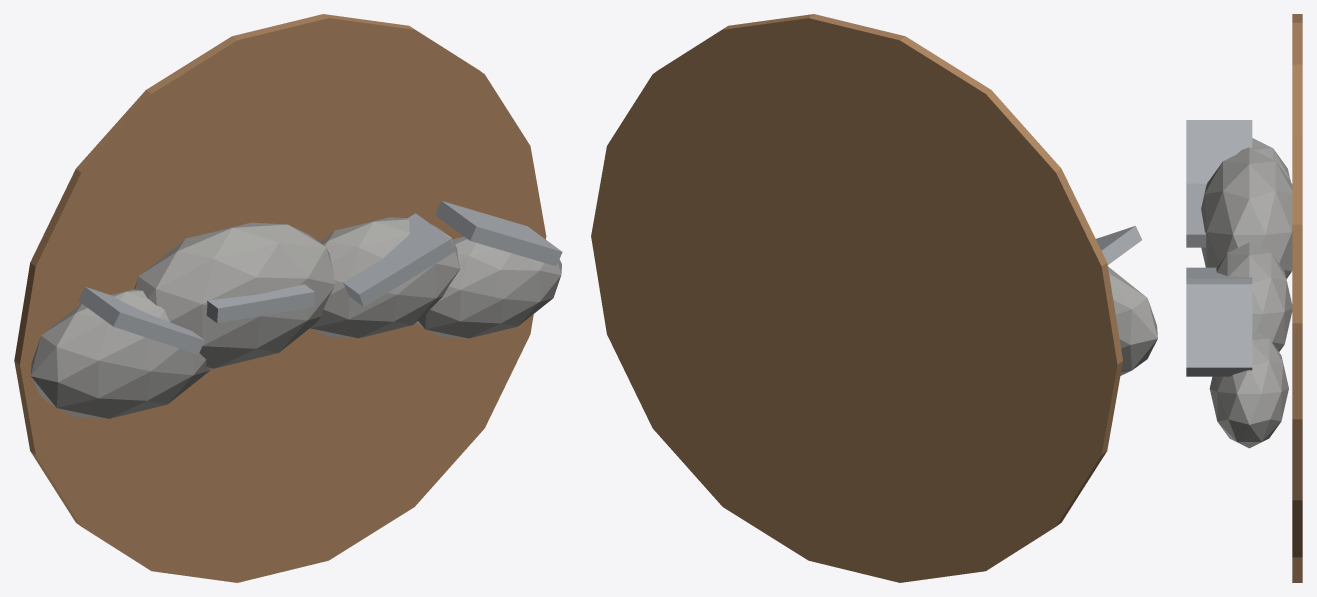
File: 02_display_prop_cluster.glb
The picture shows the model from 3 angles, left to right: view 1: azimuth 30°, elevation 25°; view 2: azimuth 150°, elevation 25°; view 3: azimuth 270°, elevation 25°; orthographic projection. The views are drawn at different scales.
Parts seen in each view (by area): view 1: scatter_base, scrap_rock_1, scrap_rock_0, scrap_rock_2, scrap_rock_3, scrap_plate_2, scrap_plate_3, scrap_plate_0, scrap_plate_1; view 2: scatter_base, scrap_rock_0, scrap_plate_0; view 3: scrap_rock_1, scatter_base, scrap_plate_3, scrap_rock_3, scrap_rock_2, scrap_plate_0, scrap_plate_1, scrap_plate_2, scrap_rock_0.
Boxes of the visible parts, bbox=[...] form: scatter_base: bbox=[14, 14, 546, 582]; scrap_rock_1: bbox=[134, 222, 334, 368]; scrap_rock_0: bbox=[30, 289, 210, 418]; scrap_rock_2: bbox=[310, 217, 460, 338]; scrap_rock_3: bbox=[416, 236, 561, 338]; scrap_plate_2: bbox=[342, 213, 455, 306]; scrap_plate_3: bbox=[435, 201, 562, 266]; scrap_plate_0: bbox=[78, 286, 204, 354]; scrap_plate_1: bbox=[206, 284, 314, 323]; scatter_base: bbox=[591, 14, 1122, 582]; scrap_rock_0: bbox=[1108, 266, 1157, 375]; scrap_plate_0: bbox=[1096, 226, 1141, 264]; scrap_rock_1: bbox=[1201, 148, 1292, 278]; scatter_base: bbox=[1292, 14, 1302, 582]; scrap_plate_3: bbox=[1186, 284, 1252, 376]; scrap_rock_3: bbox=[1209, 333, 1288, 448]; scrap_rock_2: bbox=[1216, 242, 1292, 351]; scrap_plate_0: bbox=[1186, 120, 1252, 183]; scrap_plate_1: bbox=[1186, 183, 1206, 247]; scrap_plate_2: bbox=[1186, 267, 1252, 284]; scrap_rock_0: bbox=[1237, 138, 1290, 181].
Size of the model in its own units: 1.94 by 1.87 by 0.3875.
